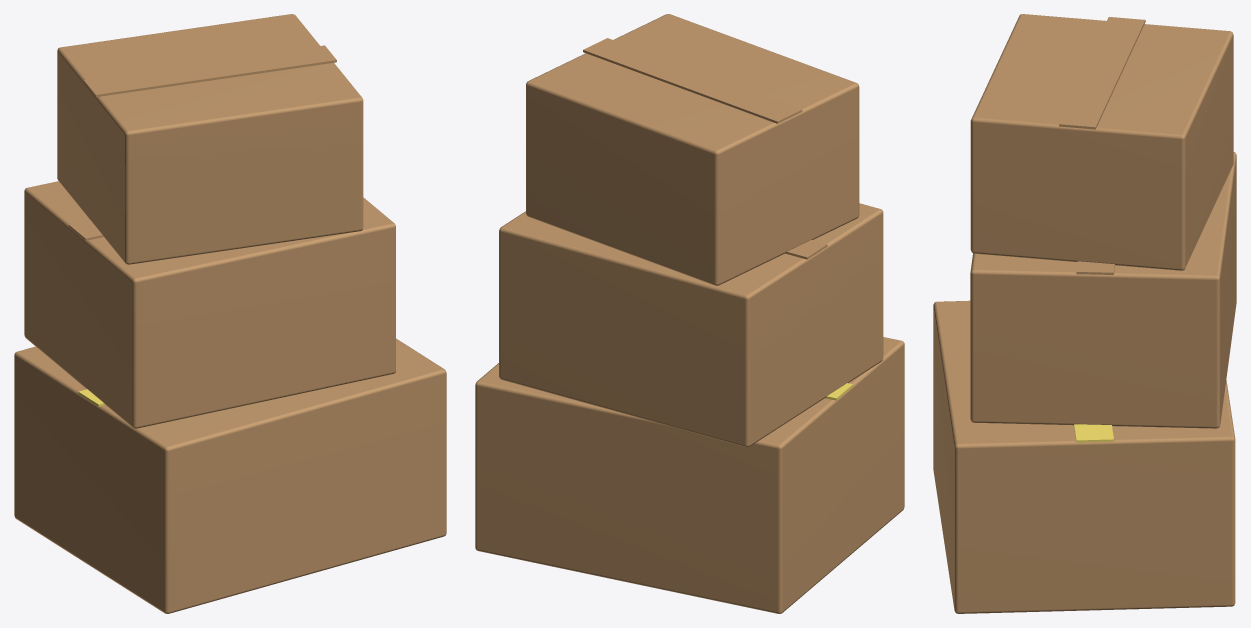
The model's file is CardboardStack.fbx.
3 renders of one model, left to right at view 1: azimuth 30°, elevation 25°; view 2: azimuth 150°, elevation 25°; view 3: azimuth 270°, elevation 25°, orthographic.
Visible parts, largest first — view 1: CardboardStackBody; view 2: CardboardStackBody; view 3: CardboardStackBody.
Part boxes in pixels (box(x1,y1,x2,y2)): CardboardStackBody: box(14, 14, 446, 613); CardboardStackBody: box(475, 14, 904, 613); CardboardStackBody: box(933, 14, 1236, 613).
Bounding box in the file's own units: 0.5766 × 0.814 × 0.4852.
